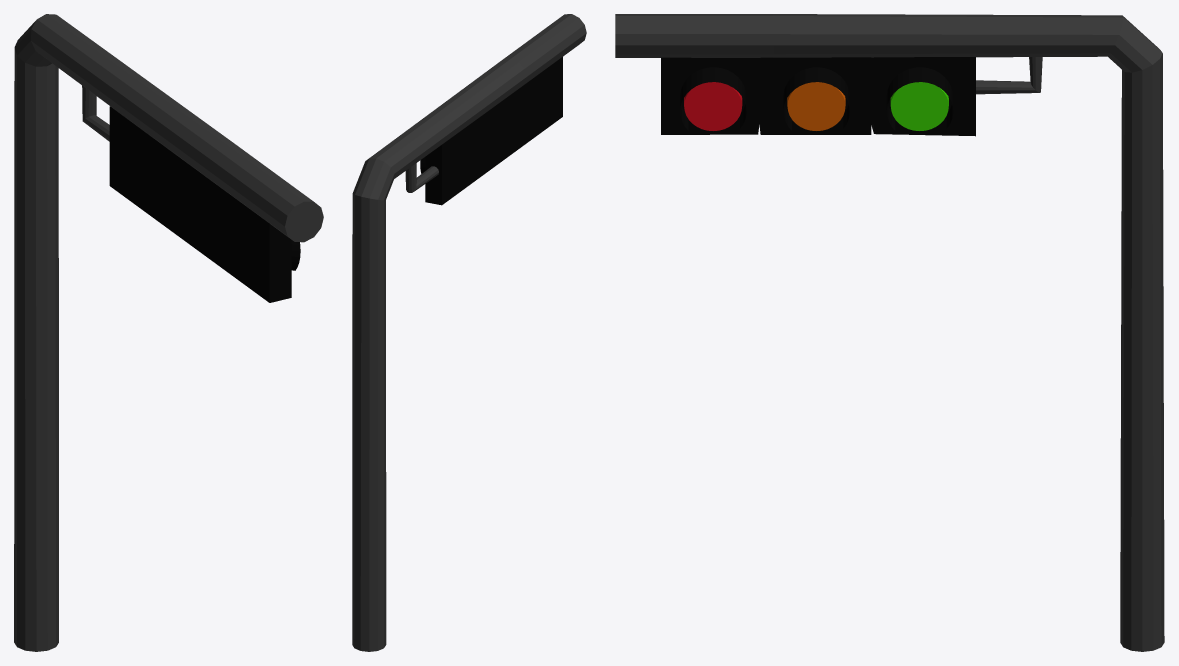
The model's file is R_Traffic_Lights.fbx.
The picture shows the model from 3 angles, left to right: view 1: azimuth 30°, elevation 25°; view 2: azimuth 150°, elevation 25°; view 3: azimuth 270°, elevation 25°; orthographic projection. The views are drawn at different scales.
Visible parts, largest first — view 1: Plane, cube, Plane.001; view 2: Plane, cube, Plane.001; view 3: Plane, cube, cylinder.001, cylinder, cylinder.002, Plane.001.
Boxes of the visible parts, left/top/right/bottom form: Plane: left=14, top=14, right=323, bottom=651; cube: left=109, top=106, right=300, bottom=302; Plane.001: left=82, top=85, right=109, bottom=141; Plane: left=352, top=14, right=586, bottom=651; cube: left=420, top=57, right=562, bottom=205; Plane.001: left=405, top=163, right=438, bottom=192; Plane: left=615, top=14, right=1164, bottom=651; cube: left=661, top=57, right=975, bottom=136; cylinder.001: left=787, top=82, right=845, bottom=130; cylinder: left=684, top=82, right=742, bottom=130; cylinder.002: left=890, top=82, right=948, bottom=130; Plane.001: left=976, top=57, right=1042, bottom=94.
Bounding box in the file's own units: 7.64 × 93.68 × 74.39.
